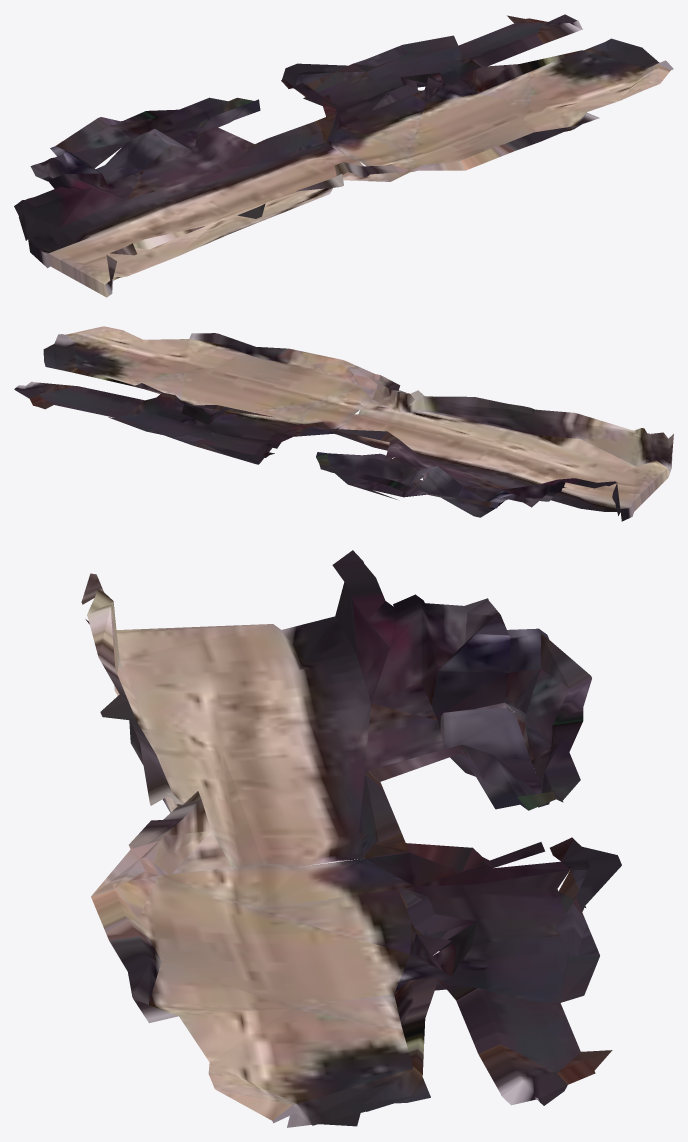
The picture shows the model from 3 angles, top to bottom: view 1: azimuth 30°, elevation 25°; view 2: azimuth 150°, elevation 25°; view 3: azimuth 270°, elevation 25°; orthographic projection. The views are drawn at different scales.
Parts seen in each view (by area): view 1: Mesh_0; view 2: Mesh_0; view 3: Mesh_0.
Boxes of the visible parts, bbox=[...] form: Mesh_0: bbox=[14, 14, 673, 297]; Mesh_0: bbox=[14, 326, 673, 521]; Mesh_0: bbox=[81, 550, 621, 1127].
Bounding box in the file's own units: 30.08 × 2.46 × 12.58.
Materials: 1 (1 with a texture image).
